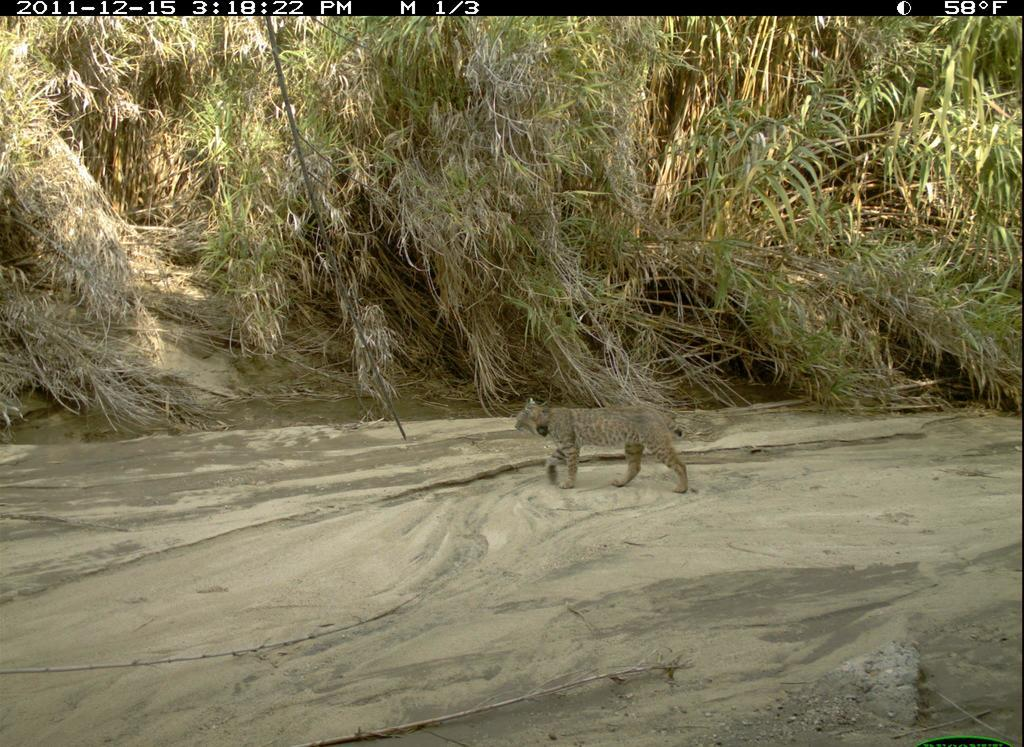bobcat: (507, 391, 699, 506)
